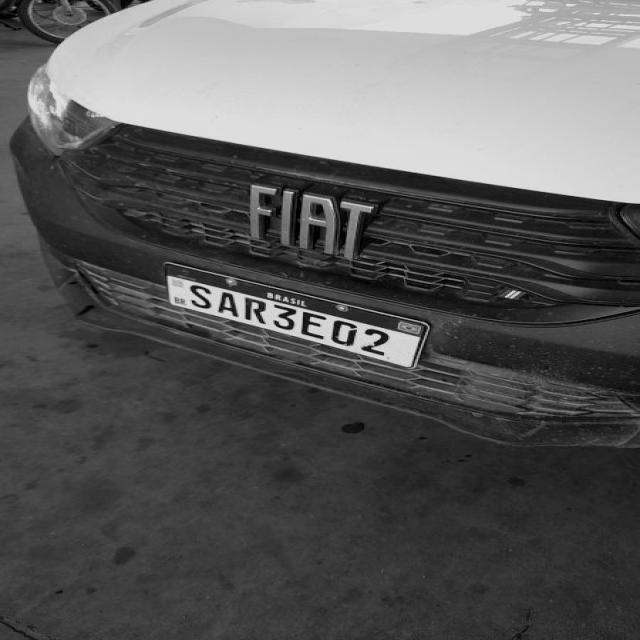placa_mercosul: (166, 263, 429, 368)
